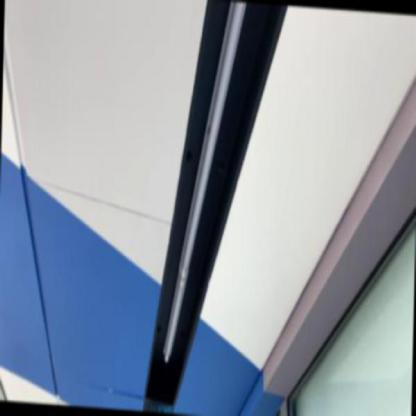light_off: (151, 0, 252, 374)
